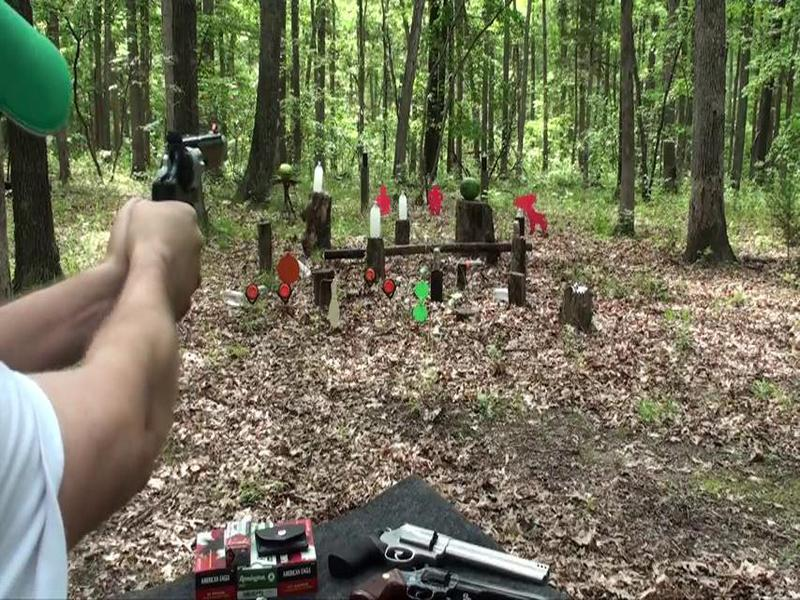Revolver: (118, 107, 237, 260)
